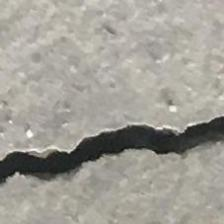Crack: (0, 116, 224, 208)
